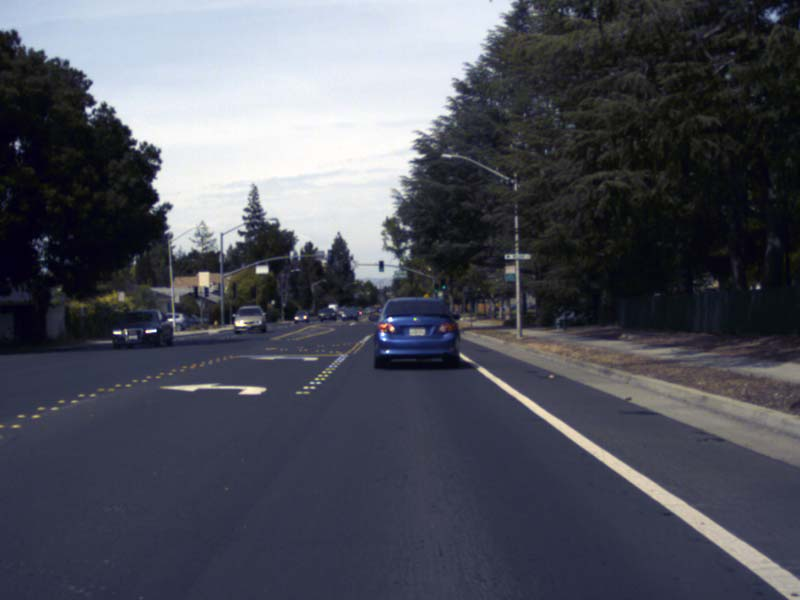Green: (378, 260, 383, 271), (441, 279, 446, 289), (434, 283, 438, 292)
Red: (342, 260, 348, 269)
